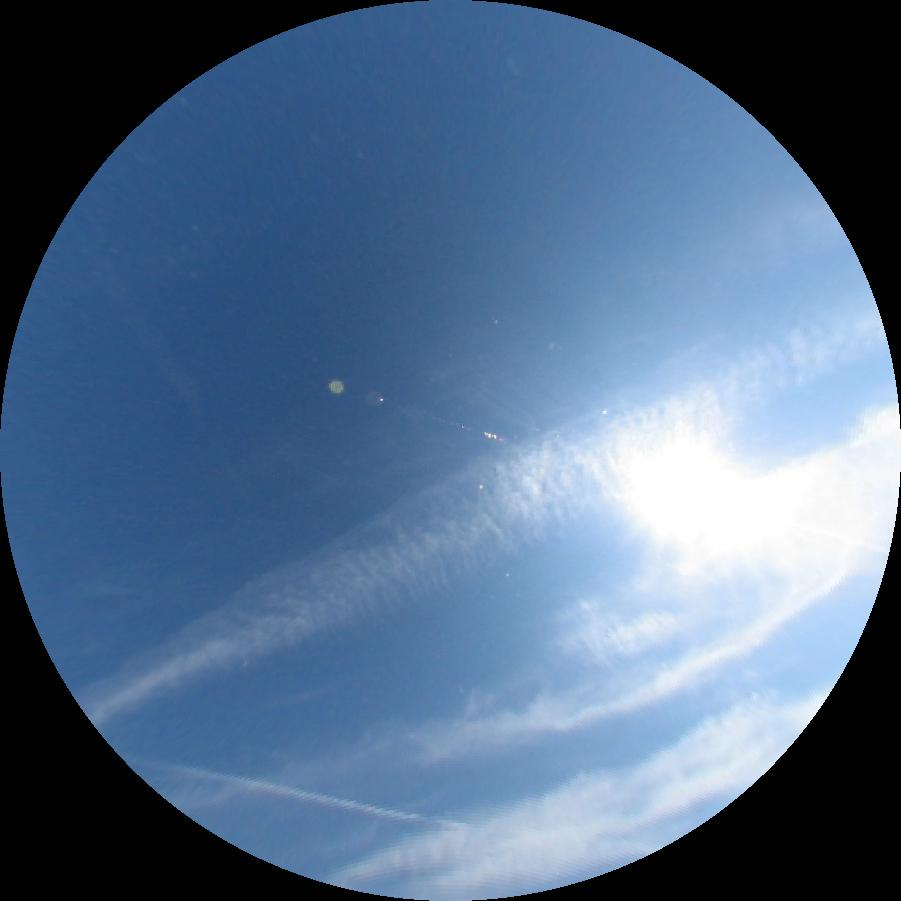contrail old: (122, 754, 465, 832)
contrail veryold: (76, 290, 888, 726), (177, 401, 898, 817), (325, 681, 836, 899)
parasite: (782, 518, 889, 555)
sun: (637, 455, 787, 533)
